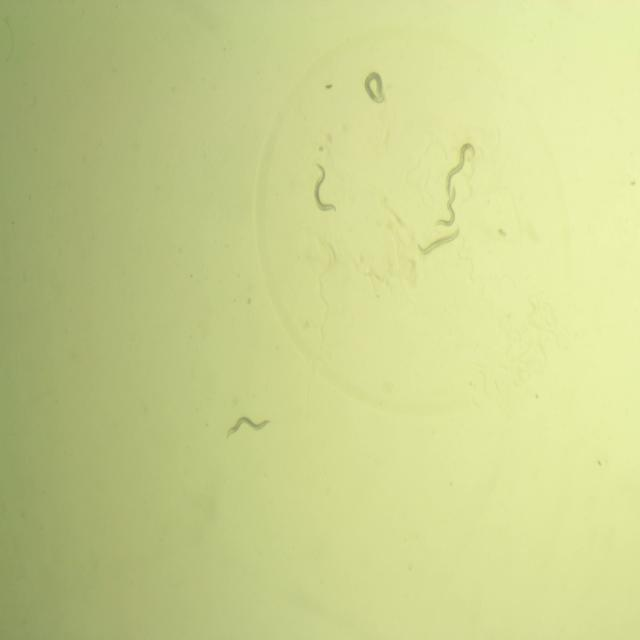worm: (443, 138, 478, 202), (308, 159, 341, 218), (222, 411, 272, 447), (414, 224, 462, 261), (433, 182, 459, 233), (358, 68, 391, 108)
